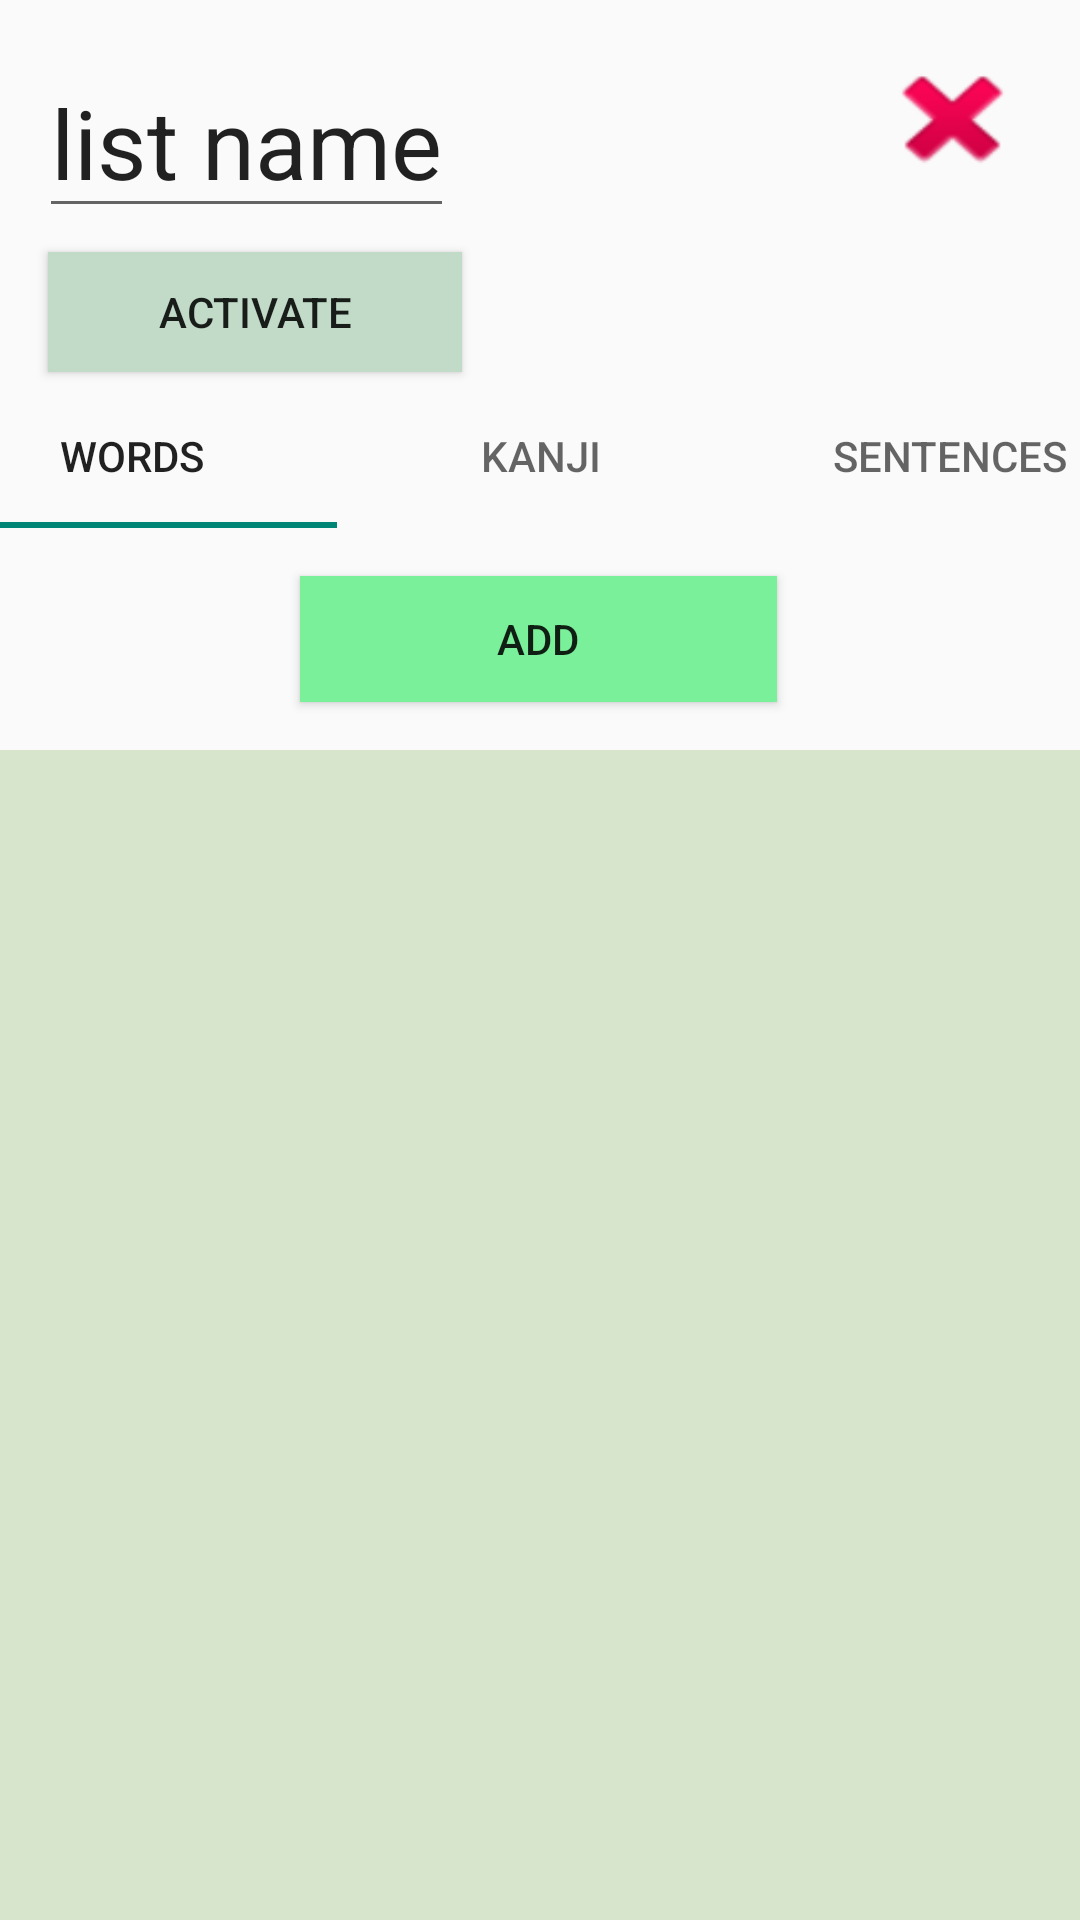

Icons on this 1080×1920 Android screen, each with the point to tap as [x,y]:
delete: [952,119]
